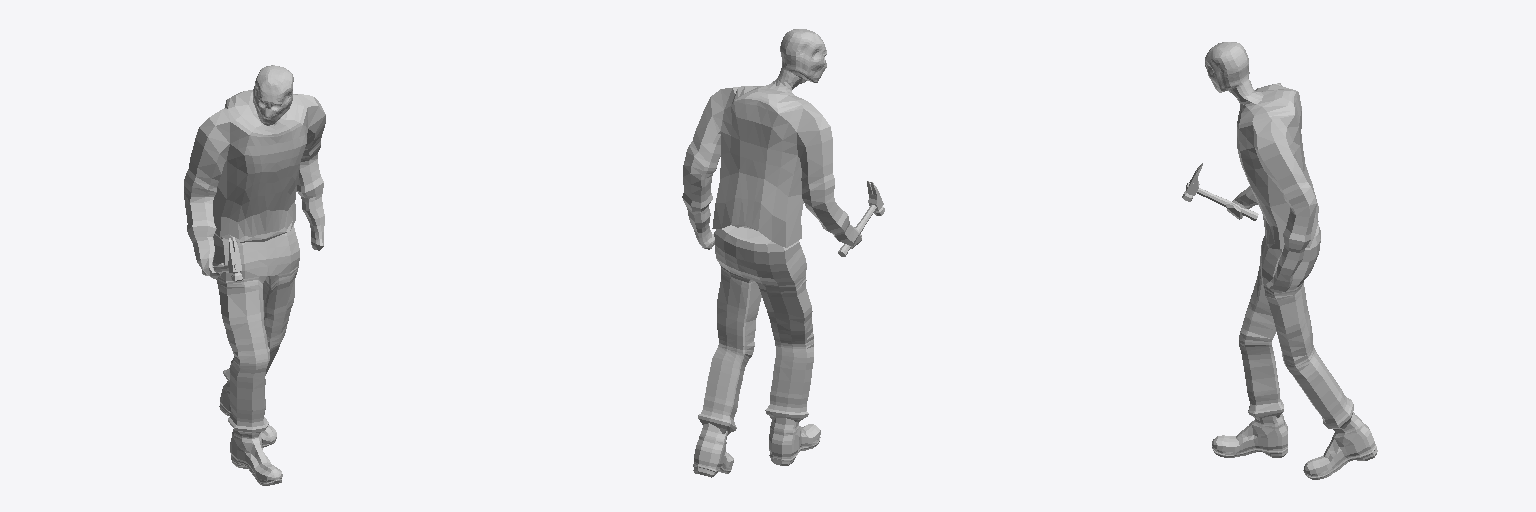
File: Murderer_Idle35.obj
3 renders of one model, left to right at view 1: azimuth 30°, elevation 25°; view 2: azimuth 150°, elevation 25°; view 3: azimuth 270°, elevation 25°, orthographic.
Visible parts, largest first — view 1: Körper, Beine, Stiefel, Hammer; view 2: Körper, Beine, Stiefel, Hammer; view 3: Körper, Beine, Stiefel, Hammer.
Part boxes in pixels (x1,y1,x2,y2): Körper: (184, 65, 325, 278); Beine: (213, 225, 299, 433); Stiefel: (219, 381, 282, 485); Hammer: (202, 237, 242, 281); Körper: (682, 29, 861, 249); Beine: (698, 225, 813, 434); Stiefel: (693, 418, 820, 477); Hammer: (838, 181, 884, 256); Körper: (1205, 42, 1318, 292); Beine: (1239, 224, 1353, 429); Stiefel: (1212, 412, 1377, 479); Hammer: (1182, 163, 1258, 220).
Size of the model in its own units: 0.3556 by 0.9619 by 0.4101.